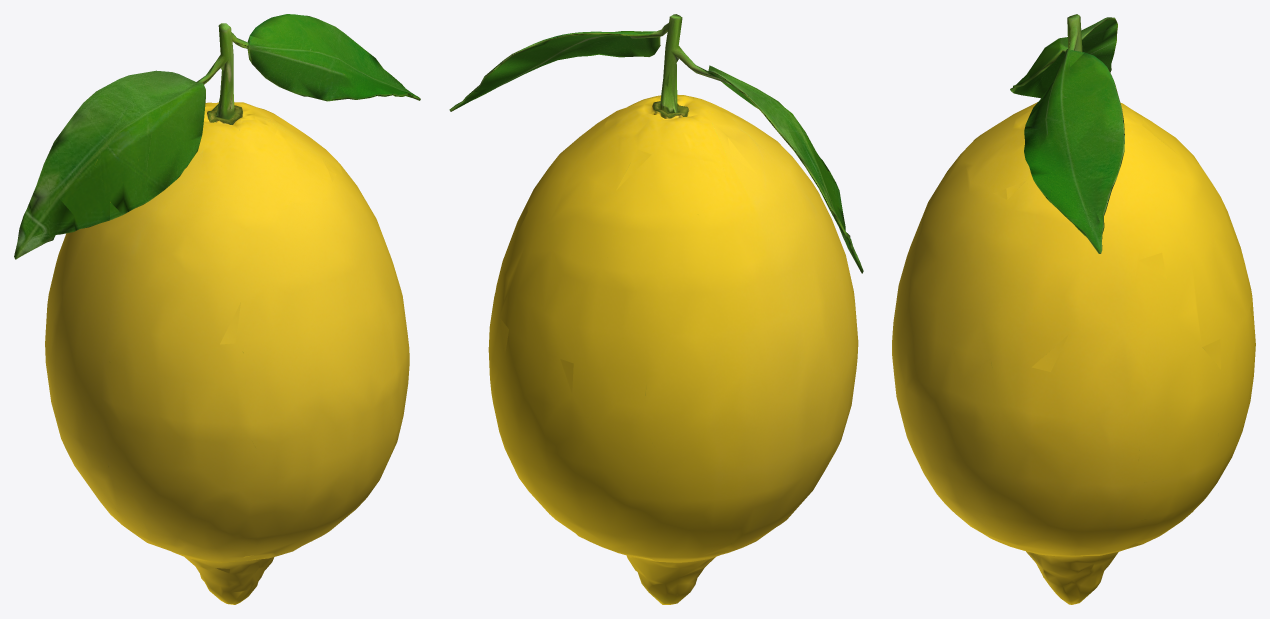
File: Meshy_AI_Lemon_0903062917_texture.fbx
3 renders of one model, left to right at view 1: azimuth 30°, elevation 25°; view 2: azimuth 150°, elevation 25°; view 3: azimuth 270°, elevation 25°, orthographic.
Parts seen in each view (by area): view 1: mesh_node; view 2: mesh_node; view 3: mesh_node.
Part boxes in pixels (box(x1,y1,x2,y2)): mesh_node: box(14, 14, 420, 604); mesh_node: box(449, 14, 863, 604); mesh_node: box(892, 14, 1255, 604).
Size of the model in its own units: 139 by 190 by 107.
1 material, 1 textured.
